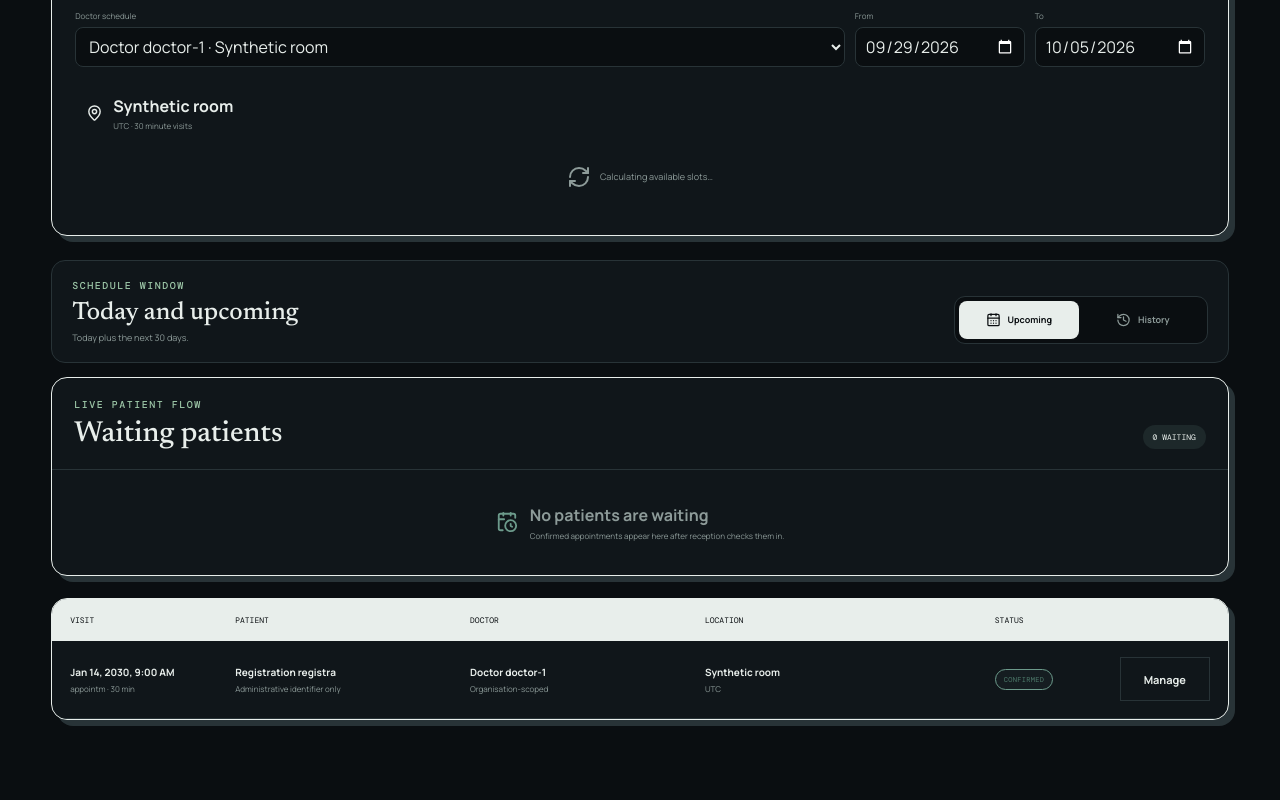
Test: Real appointment lifecycle page › lets reception check in a confirmed patient and adds them to the waiting list
The image size is (1280, 800).
(page scrolled)
Expected: the text "No patients are waiting" is shown, [530,504,709,526]
What coordinates should you click on to do the following:
click the button "Manage"
I would click on:
 (1165, 679)
Its box is [1120,657,1210,701].
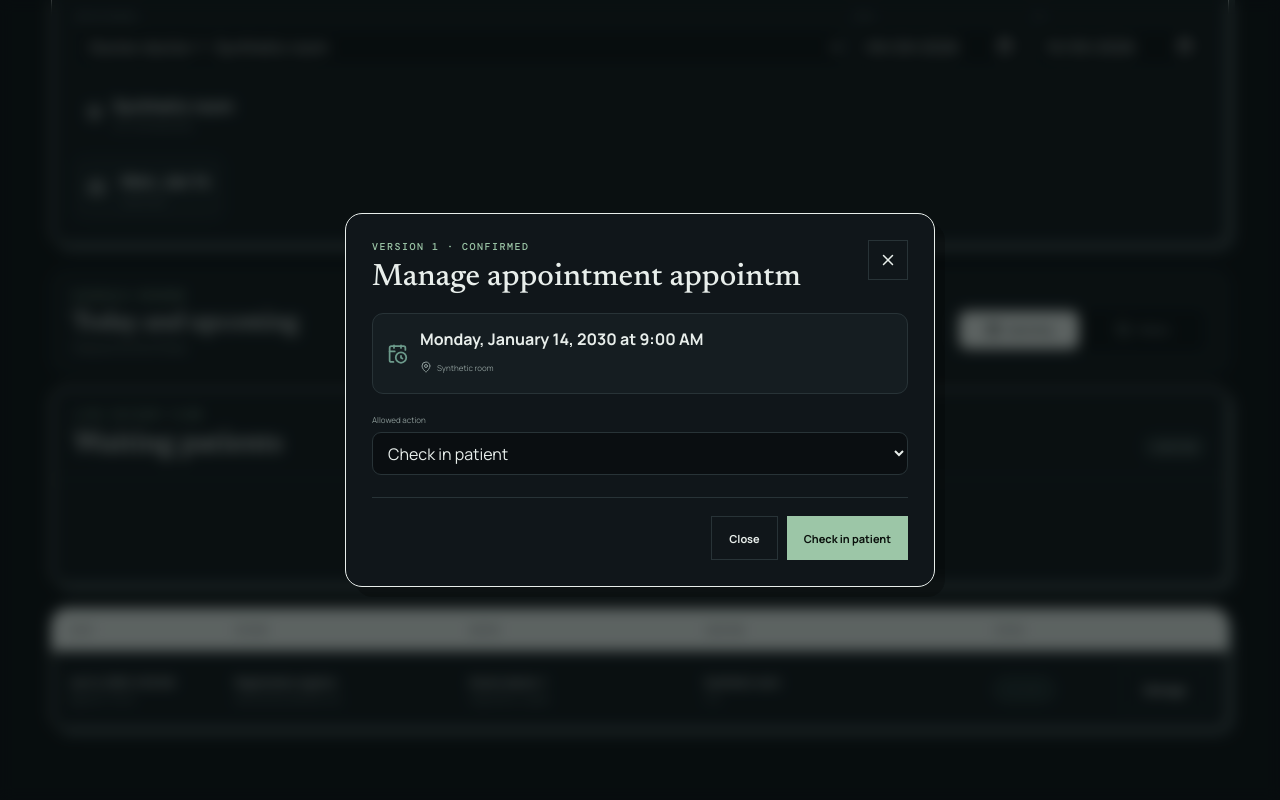
What coordinates should you click on to do the following:
click the button "Check in patient"
I would click on:
 (847, 538)
Its box is [787,516,908,560].
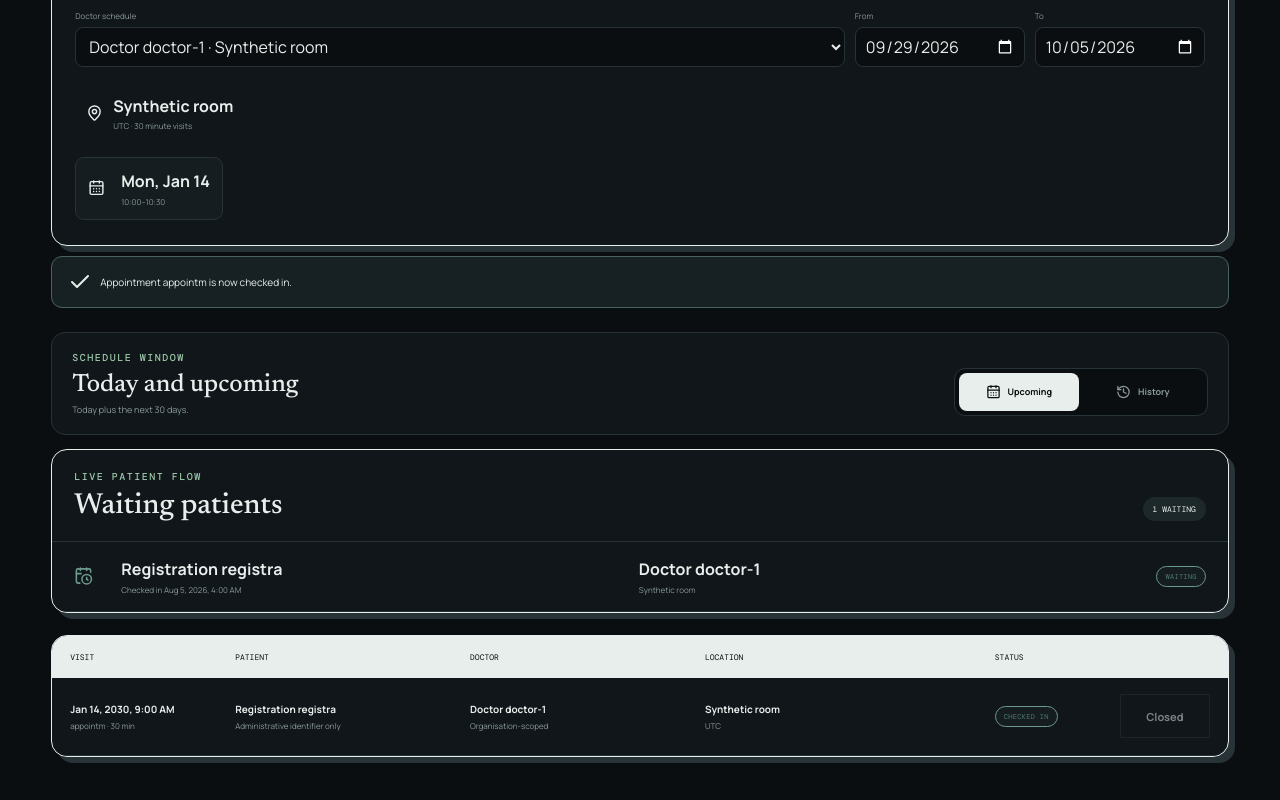
Now the text "1 waiting" is shown, box [1143,497,1206,521]
Now the text "Checked in Aug 5, 2026, 4:00 AM" is shown, box [121,584,241,595]
